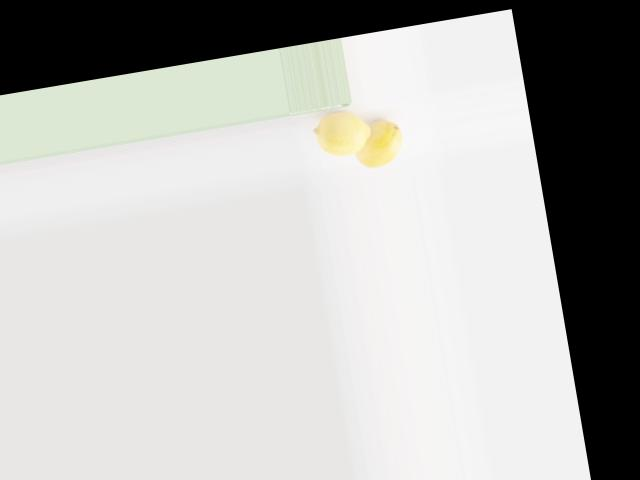lemon: (353, 120, 408, 171)
